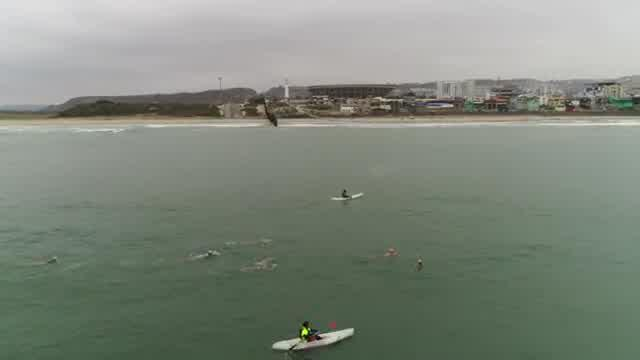swimmer: (409, 254, 437, 276), (46, 249, 64, 272), (381, 239, 393, 261), (202, 245, 216, 263)
